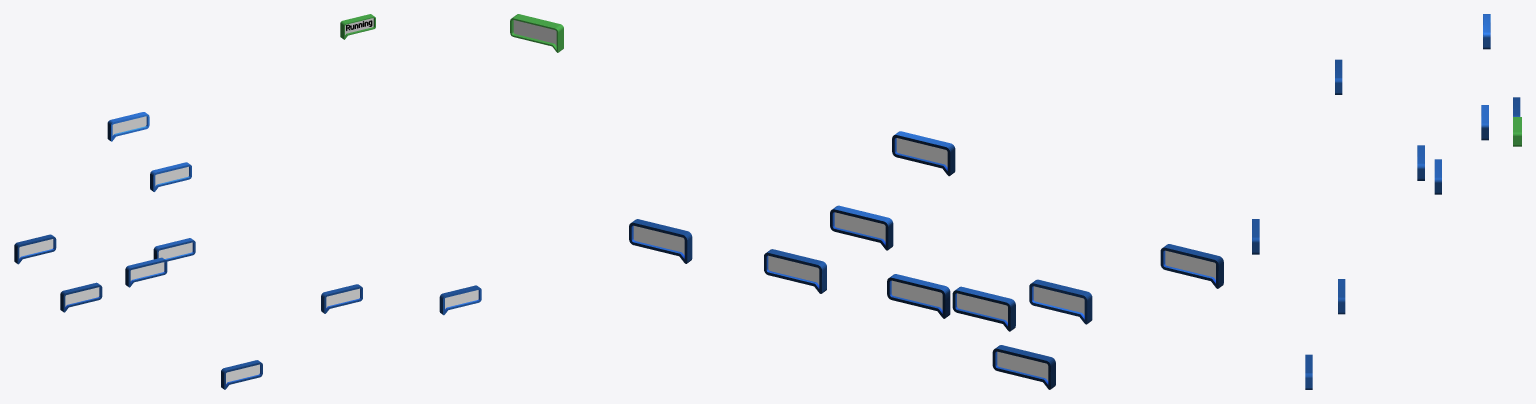
The model's file is pop_up_photography_right.glb.
3 views of the same model, side by side, from view 1: azimuth 30°, elevation 25°; view 2: azimuth 150°, elevation 25°; view 3: azimuth 270°, elevation 25° (orthographic). The views are drawn at different scales.
Visible parts, largest first — view 1: pop_up_social_networks, pop_up_photography_left, pop_up_contact_me, pop_up_photography_right, pop_up_games, pop_up_running, pop_up_share_knowledge, pop_up_development, pop_up_stereoscopy, pop_up_running.009; view 2: pop_up_development, pop_up_running, pop_up_social_networks, pop_up_stereoscopy, pop_up_photography_right, pop_up_games, pop_up_contact_me, pop_up_photography_left, pop_up_share_knowledge, pop_up_running.009; view 3: pop_up_running, pop_up_photography_right, pop_up_contact_me, pop_up_stereoscopy, pop_up_development, pop_up_social_networks, pop_up_share_knowledge, pop_up_games, pop_up_running.009.
Part boxes in pixels (left/top/right/bottom): pop_up_social_networks: left=107, top=112, right=149, bottom=141; pop_up_photography_left: left=14, top=234, right=56, bottom=264; pop_up_contact_me: left=125, top=257, right=167, bottom=287; pop_up_photography_right: left=439, top=285, right=481, bottom=315; pop_up_games: left=60, top=282, right=102, bottom=312; pop_up_running: left=221, top=360, right=262, bottom=389; pop_up_share_knowledge: left=321, top=284, right=362, bottom=313; pop_up_development: left=150, top=162, right=191, bottom=191; pop_up_stereoscopy: left=153, top=238, right=195, bottom=261; pop_up_running.009: left=340, top=14, right=375, bottom=39; pop_up_development: left=830, top=205, right=893, bottom=250; pop_up_running: left=1029, top=279, right=1092, bottom=324; pop_up_social_networks: left=892, top=131, right=955, bottom=176; pop_up_stereoscopy: left=887, top=274, right=950, bottom=318; pop_up_photography_right: left=629, top=219, right=692, bottom=263; pop_up_games: left=1160, top=244, right=1223, bottom=288; pop_up_contact_me: left=952, top=286, right=1015, bottom=331; pop_up_photography_left: left=992, top=345, right=1055, bottom=389; pop_up_share_knowledge: left=764, top=249, right=826, bottom=293; pop_up_running.009: left=510, top=14, right=563, bottom=52; pop_up_running: left=1252, top=219, right=1259, bottom=254; pop_up_photography_right: left=1305, top=354, right=1312, bottom=389; pop_up_contact_me: left=1417, top=145, right=1424, bottom=180; pop_up_stereoscopy: left=1434, top=159, right=1441, bottom=194; pop_up_development: left=1481, top=105, right=1488, bottom=140; pop_up_social_networks: left=1483, top=14, right=1490, bottom=49; pop_up_share_knowledge: left=1338, top=279, right=1345, bottom=314; pop_up_games: left=1335, top=59, right=1342, bottom=94; pop_up_running.009: left=1513, top=117, right=1521, bottom=146.
Bounding box in the file's own units: 33.82 × 18.01 × 17.28.
12 materials, 9 textured.
